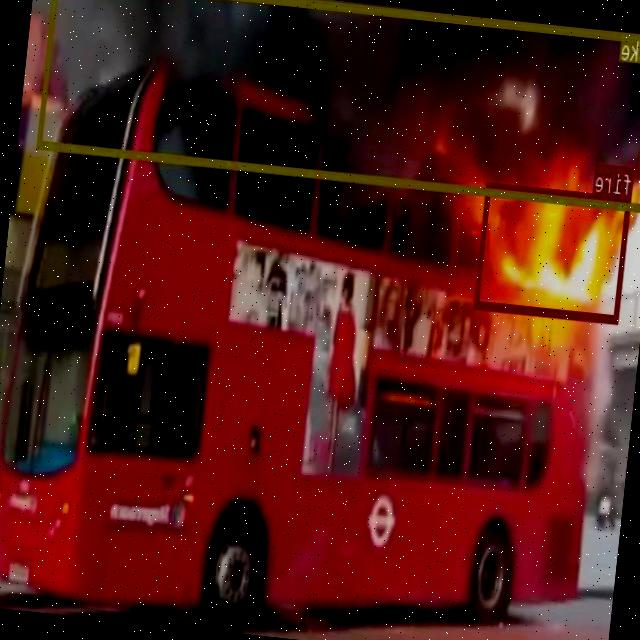fire: (474, 180, 632, 322)
smoke: (37, 0, 640, 211)
